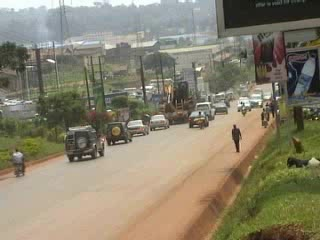Car: (60, 121, 105, 166), (104, 119, 133, 147), (124, 117, 152, 141), (186, 106, 210, 130), (149, 112, 171, 133), (212, 100, 231, 116), (235, 98, 252, 112), (263, 88, 271, 101)
Motorcycle: (9, 145, 28, 178), (193, 110, 207, 129), (239, 100, 248, 117)
